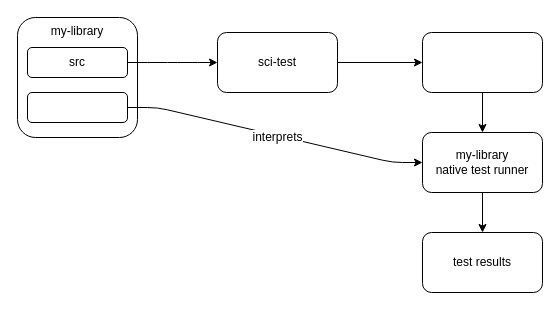
The diagram is 560 pixels wide and 310 high, and some of its shapes have lost their labels. The box of each missing label's shape, as (x1, y1, x2, y2) in pixels:
Graal native-image: (422, 32, 542, 92)
test: (26, 92, 128, 122)
